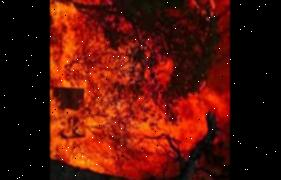fire: (50, 0, 230, 180)
